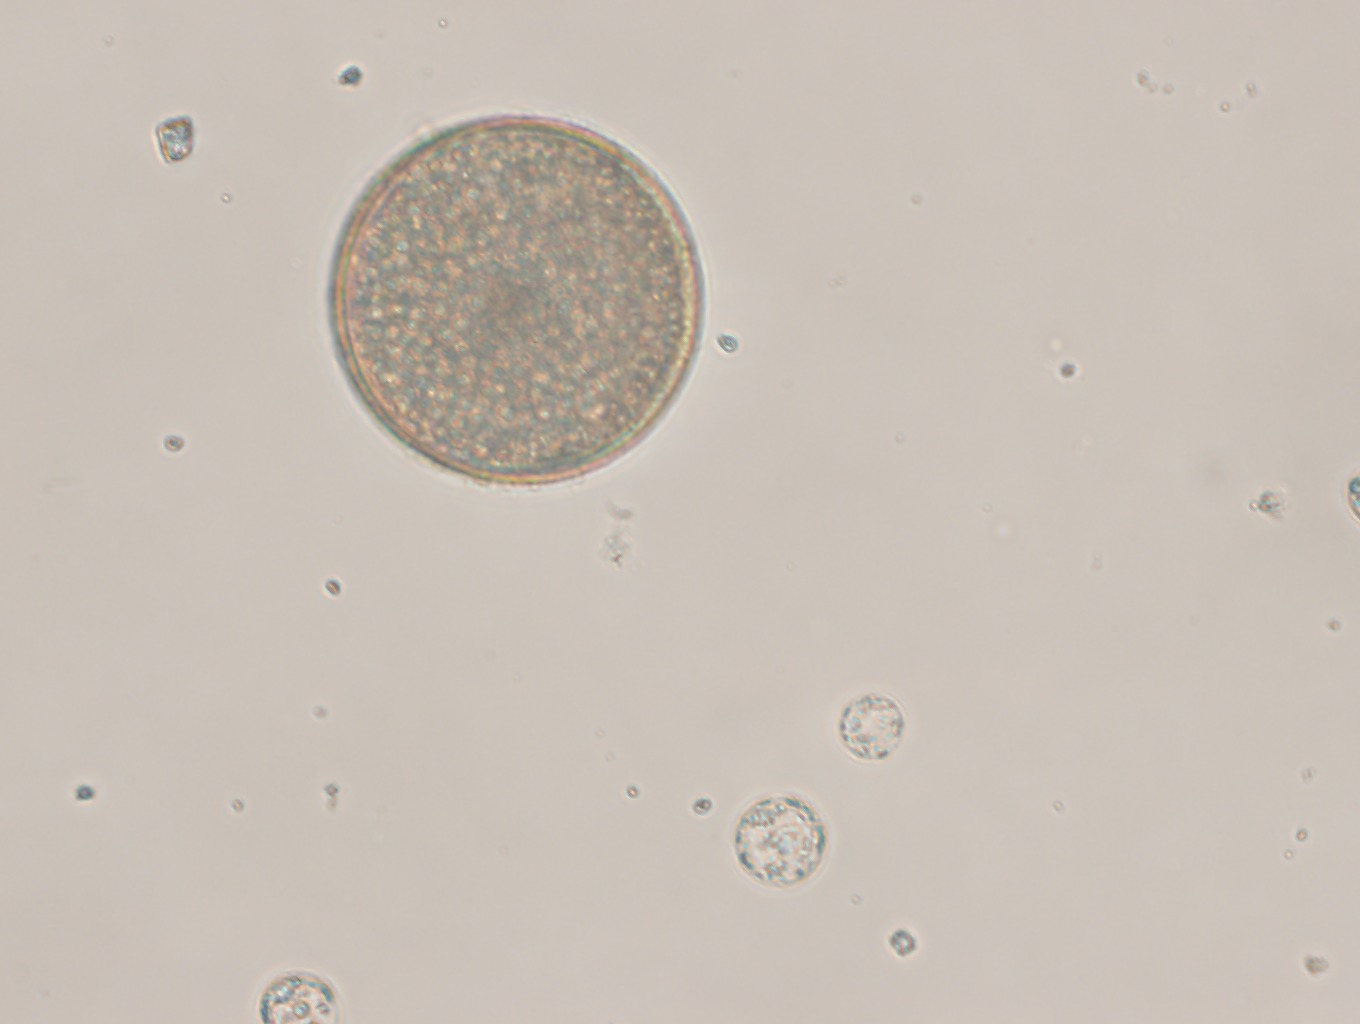coscinodiscus: (326, 108, 706, 490)
